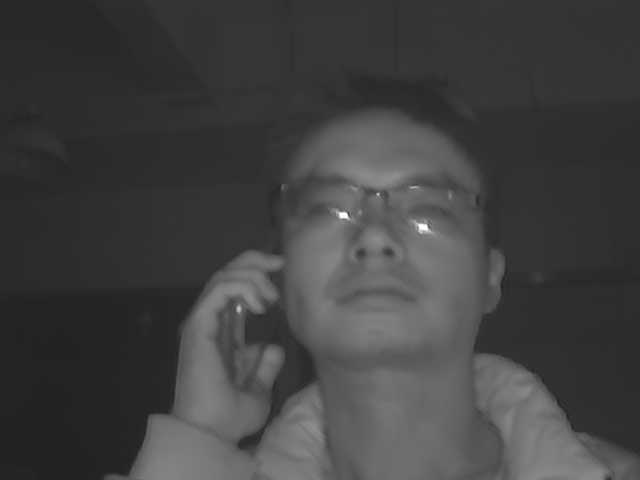hand: (164, 248, 296, 445)
